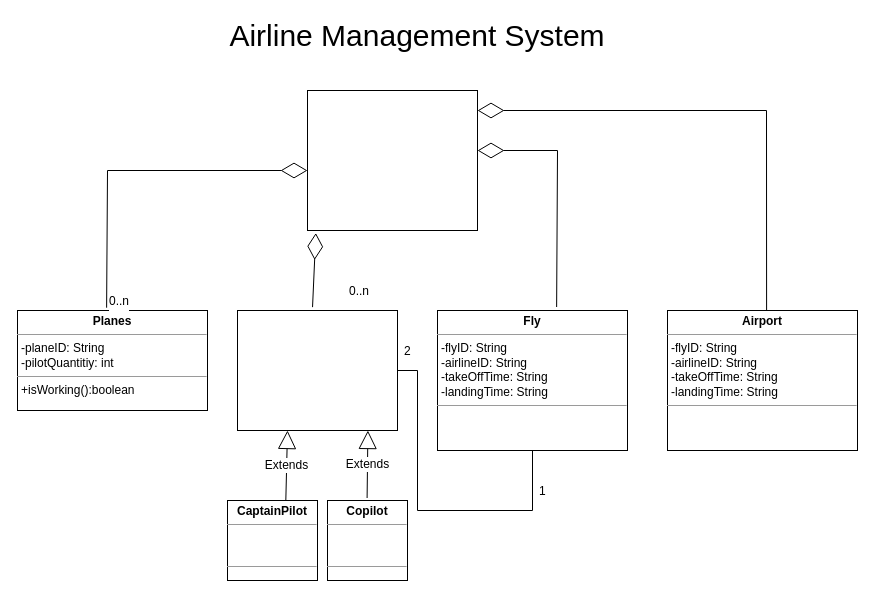
This 875x598 diagram has some shape labels left out. The centre of each missing label's shape, as x and y in pixels:
"<<Abstract>> Company - companyName: Sting - companyId: Sting" belongs at point 392,160.
"Pilots -name: Sting -role: Sting -expTİme: int" belongs at point 317,370.
